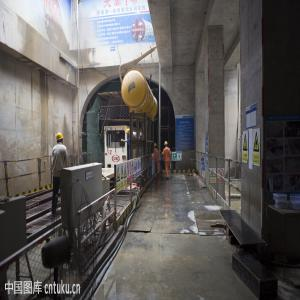yellow: (57, 134, 66, 147), (127, 129, 131, 136), (165, 142, 169, 148), (155, 144, 158, 150)
